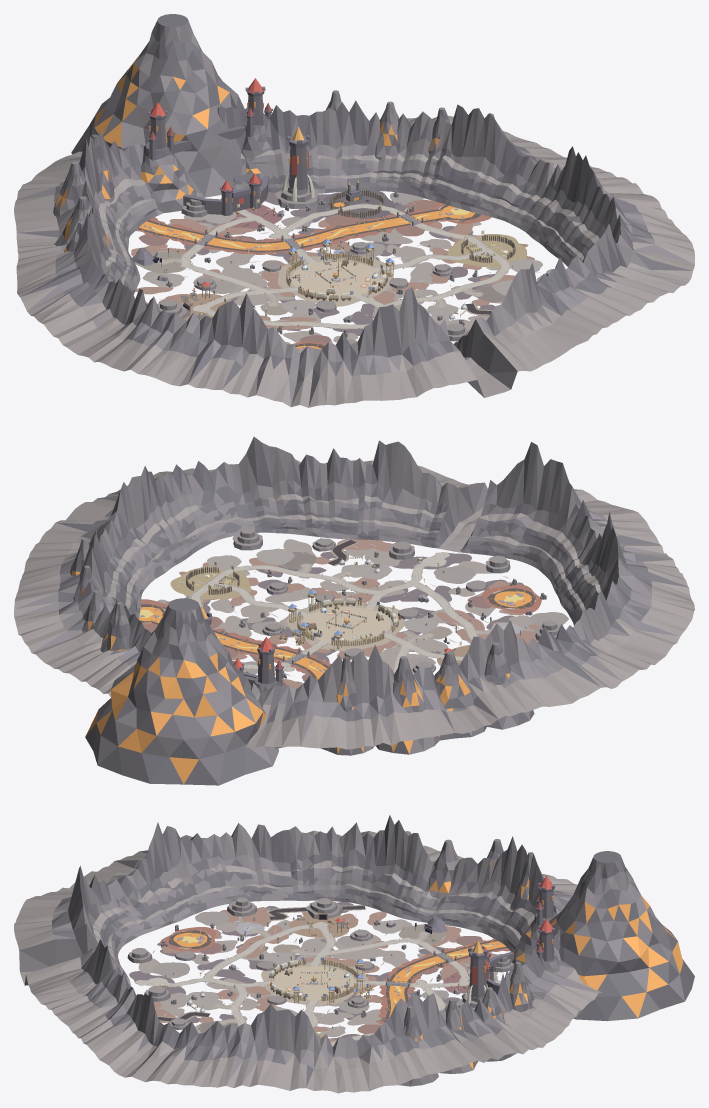
Rendered from map_field_kharzun.glb.
The picture shows the model from 3 angles, top to bottom: view 1: azimuth 30°, elevation 25°; view 2: azimuth 150°, elevation 25°; view 3: azimuth 270°, elevation 25°; orthographic projection. The views are drawn at different scales.
Visible parts, largest first — view 1: Z_field_kharzun_penhascos, Z_field_kharzun_pico_kharzun, Z_field_kharzun_pico_ombro_0, Z_field_kharzun_agua_rio_1, Z_field_kharzun_praca_hub, Z_field_kharzun_det_chao_0_-2, Z_field_kharzun_chao_canil, Z_field_kharzun_det_chao_1_-1, Z_field_kharzun_chao_hub, Z_field_kharzun_lava_crosta_1, Z_field_kharzun_det_chao_-2_-1, Z_field_kharzun_det_chao_1_0 (+14 smaller); view 2: Z_field_kharzun_penhascos, Z_field_kharzun_pico_kharzun, Z_field_kharzun_praca_hub, Z_field_kharzun_pico_encosta_2, Z_field_kharzun_pico_encosta_1, Z_field_kharzun_chao_canil, Z_field_kharzun_pico_encosta_0, Z_field_kharzun_det_chao_1_-1, Z_field_kharzun_chao_hub, Z_field_kharzun_det_chao_1_1, Z_field_kharzun_pico_encosta_3, Z_field_kharzun_det_chao_-2_0 (+14 smaller); view 3: Z_field_kharzun_penhascos, Z_field_kharzun_pico_kharzun, Z_field_kharzun_praca_hub, Z_field_kharzun_pico_encosta_1, Z_field_kharzun_det_chao_-2_0, Z_field_kharzun_det_chao_0_-2, Z_field_kharzun_agua_rio_1, Z_field_kharzun_det_chao_1_-1, Z_field_kharzun_det_chao_-2_-1, Z_field_kharzun_chao_hub, Z_field_kharzun_pico_encosta_8, Z_field_kharzun_det_chao_0_1 (+20 smaller).
Part boxes in pixels (x1,y1,x2,y2): Z_field_kharzun_penhascos: (14, 100, 694, 407); Z_field_kharzun_pico_kharzun: (71, 14, 244, 197); Z_field_kharzun_pico_ombro_0: (141, 142, 196, 212); Z_field_kharzun_agua_rio_1: (139, 210, 448, 250); Z_field_kharzun_praca_hub: (291, 261, 380, 298); Z_field_kharzun_det_chao_0_-2: (136, 205, 451, 263); Z_field_kharzun_chao_canil: (448, 234, 527, 268); Z_field_kharzun_det_chao_1_-1: (360, 232, 451, 267); Z_field_kharzun_chao_hub: (277, 256, 393, 306); Z_field_kharzun_lava_crosta_1: (138, 209, 444, 252); Z_field_kharzun_det_chao_-2_-1: (190, 264, 295, 307); Z_field_kharzun_det_chao_1_0: (375, 247, 486, 284); Z_field_kharzun_penhascos: (14, 437, 694, 749); Z_field_kharzun_pico_kharzun: (85, 598, 278, 785); Z_field_kharzun_praca_hub: (302, 607, 390, 644); Z_field_kharzun_pico_encosta_2: (376, 656, 439, 754); Z_field_kharzun_pico_encosta_1: (434, 651, 486, 740); Z_field_kharzun_chao_canil: (170, 566, 251, 599); Z_field_kharzun_pico_encosta_0: (484, 642, 534, 729); Z_field_kharzun_det_chao_1_-1: (211, 599, 283, 636); Z_field_kharzun_chao_hub: (286, 601, 405, 651); Z_field_kharzun_det_chao_1_1: (208, 539, 380, 594); Z_field_kharzun_pico_encosta_3: (321, 656, 374, 755); Z_field_kharzun_det_chao_-2_0: (395, 582, 492, 652); Z_field_kharzun_penhascos: (14, 815, 601, 1093); Z_field_kharzun_pico_kharzun: (549, 851, 694, 1021); Z_field_kharzun_praca_hub: (275, 966, 354, 999); Z_field_kharzun_pico_encosta_1: (428, 839, 459, 898); Z_field_kharzun_det_chao_-2_0: (203, 924, 325, 977); Z_field_kharzun_det_chao_0_-2: (358, 938, 509, 1028); Z_field_kharzun_agua_rio_1: (389, 941, 506, 1016); Z_field_kharzun_det_chao_1_-1: (313, 1008, 381, 1037); Z_field_kharzun_det_chao_-2_-1: (300, 927, 406, 965); Z_field_kharzun_chao_hub: (261, 961, 368, 1006); Z_field_kharzun_pico_encosta_8: (509, 961, 534, 1011); Z_field_kharzun_det_chao_0_1: (206, 976, 258, 1010).
Bounding box in the file's own units: 361 × 82.87 × 403.
